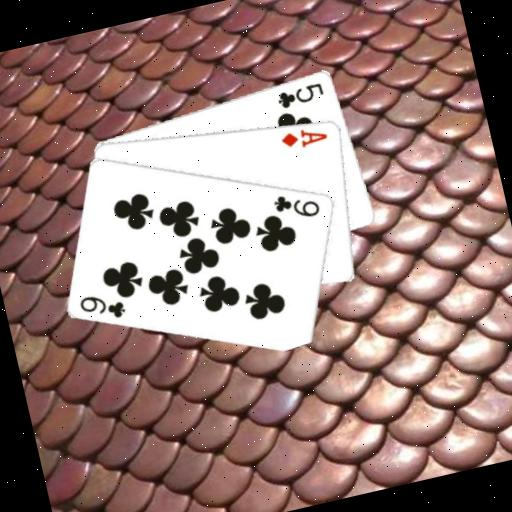5C: (273, 78, 327, 112)
9C: (269, 184, 324, 227), (75, 285, 130, 328)
AD: (277, 121, 331, 154)
